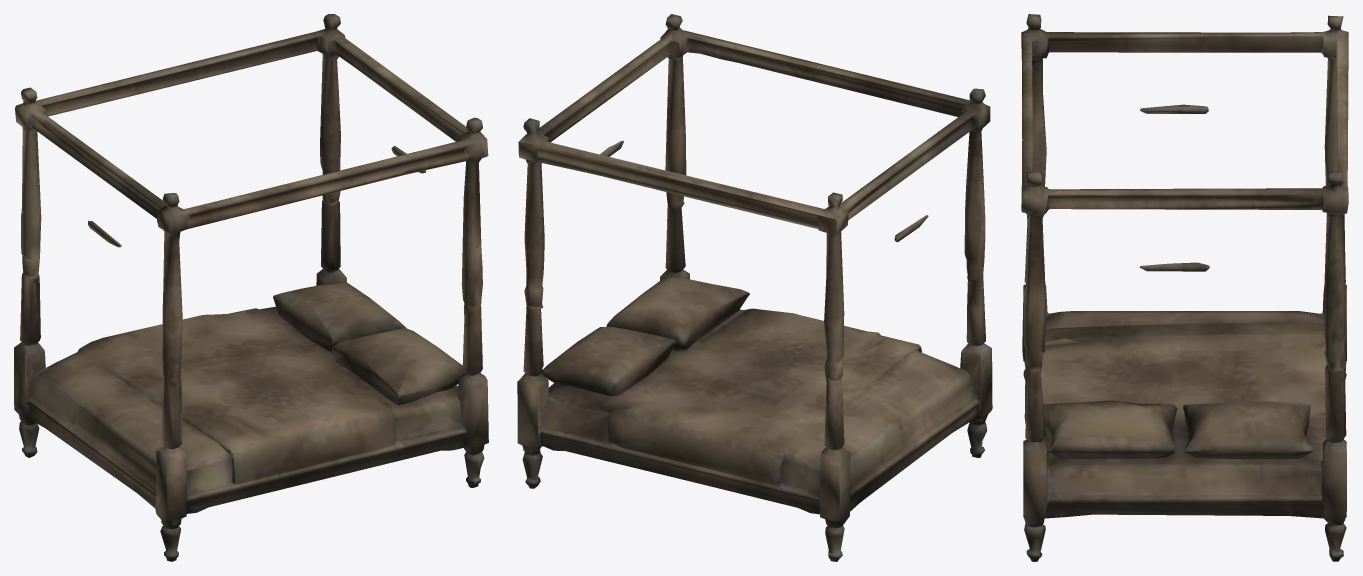
File: worn-wood-four-poster-bed-v001.glb
3 views of the same model, side by side, from view 1: azimuth 30°, elevation 25°; view 2: azimuth 150°, elevation 25°; view 3: azimuth 270°, elevation 25° (orthographic). The views are drawn at different scales.
Visible parts, largest first — view 1: worn-wood-four-poster-bed; view 2: worn-wood-four-poster-bed; view 3: worn-wood-four-poster-bed.
Boxes of the visible parts, x1,y1,x2,y2 form: worn-wood-four-poster-bed: (14,14,488,561); worn-wood-four-poster-bed: (517,14,992,561); worn-wood-four-poster-bed: (1021,14,1348,561).
Size of the model in its own units: 1.83 by 1.99 by 1.52.
Materials: 1 (1 with a texture image).
